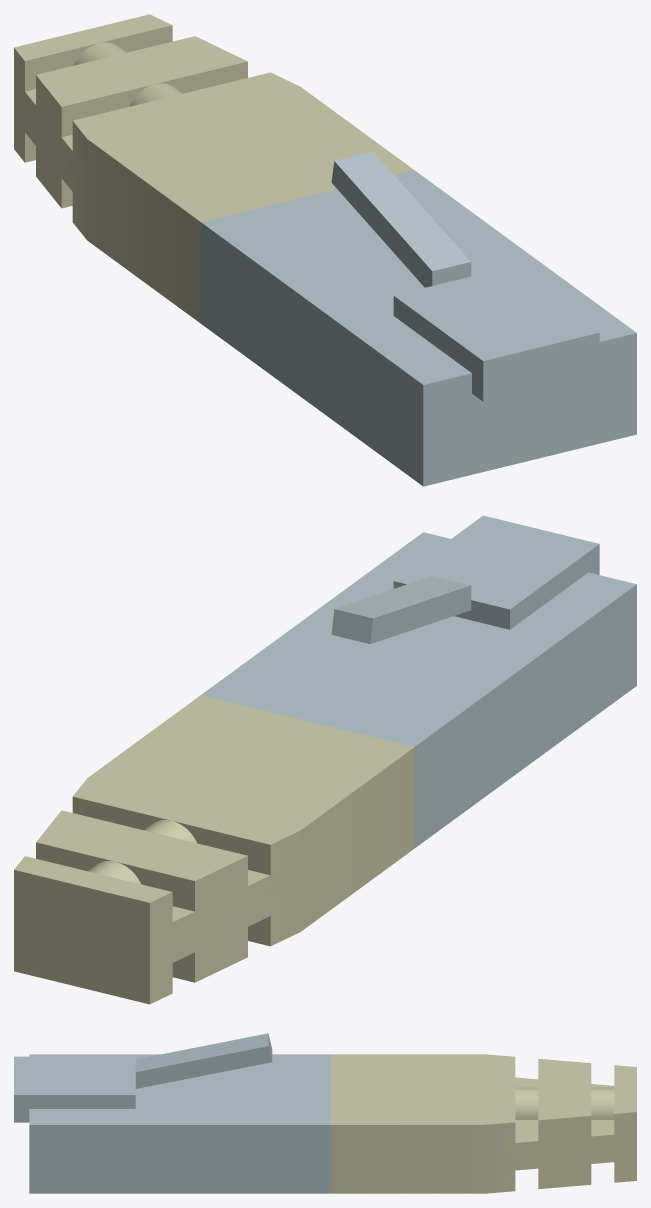
Rendered from rj45_plugg.fbx.
The picture shows the model from 3 angles, top to bottom: view 1: azimuth 30°, elevation 25°; view 2: azimuth 150°, elevation 25°; view 3: azimuth 270°, elevation 25°; orthographic projection. The views are drawn at different scales.
Visible parts, largest first — view 1: rj45_kontakt (×2); view 2: rj45_kontakt (×2); view 3: rj45_kontakt (×2).
Part boxes in pixels (x1=…): rj45_kontakt (×2): x1=14, y1=14, x2=636, y2=486; rj45_kontakt (×2): x1=14, y1=515, x2=636, y2=1004; rj45_kontakt (×2): x1=14, y1=1033, x2=636, y2=1193.
Bounding box in the file's own units: 11 × 8.62 × 41.
